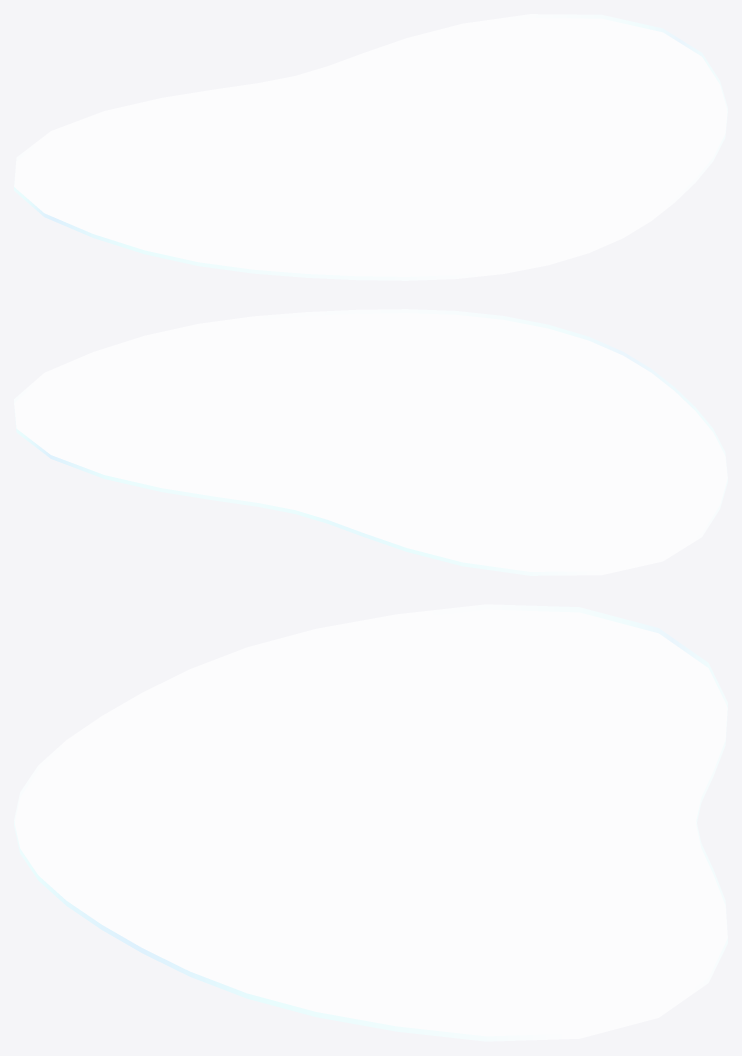
File: neon_puddle.glb
The picture shows the model from 3 angles, top to bottom: view 1: azimuth 30°, elevation 25°; view 2: azimuth 150°, elevation 25°; view 3: azimuth 270°, elevation 25°; orthographic projection. The views are drawn at different scales.
Parts seen in each view (by area): view 1: neon_puddle; view 2: neon_puddle; view 3: neon_puddle.
Boxes of the visible parts, x1=… form: neon_puddle: x1=14, y1=14, x2=727, y2=280; neon_puddle: x1=14, y1=309, x2=727, y2=575; neon_puddle: x1=14, y1=604, x2=727, y2=1041.
Bounding box in the file's own units: 2.1 × 0.012 × 1.46.
